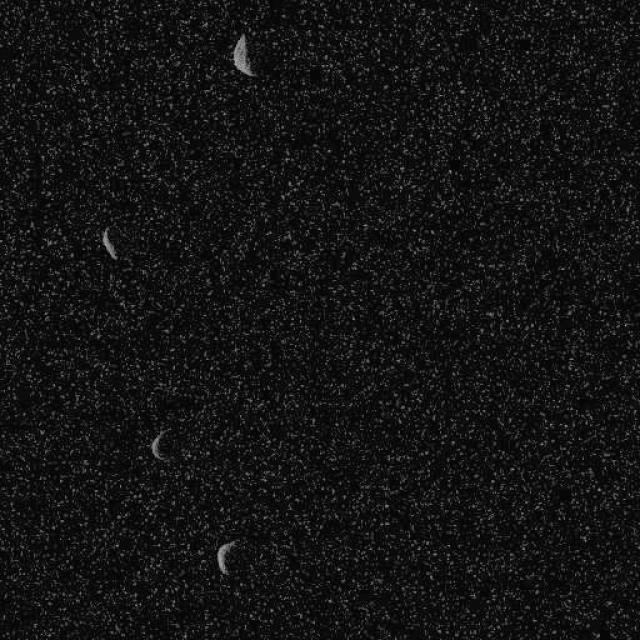D2: (232, 32, 258, 78), (215, 539, 237, 576), (149, 428, 170, 462), (100, 226, 118, 260)
